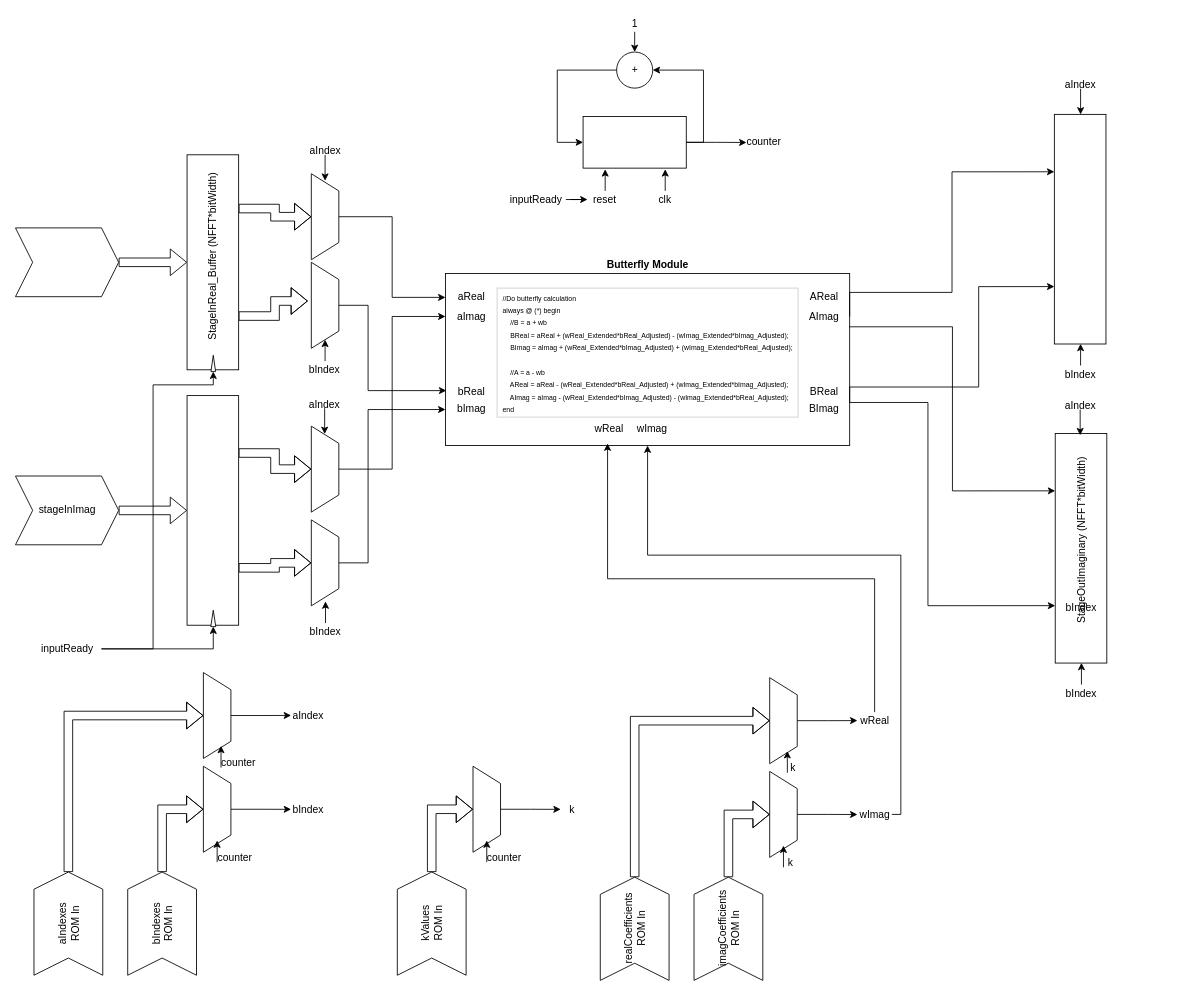
This 1199x996 diagram has some shape labels left out. The shapes that lost their labels are listed below. From the top down, each one's centre as x and y in pixels, then its label:
At point 634,142: "Counter (nfft)".
At point 1080,229: "StageOutReal (NFFT*bitWidth)".
At point 67,262: "stageInReal".
At point 212,510: "StageInImaginary_Buffer (NFFT*bitWidth)".
